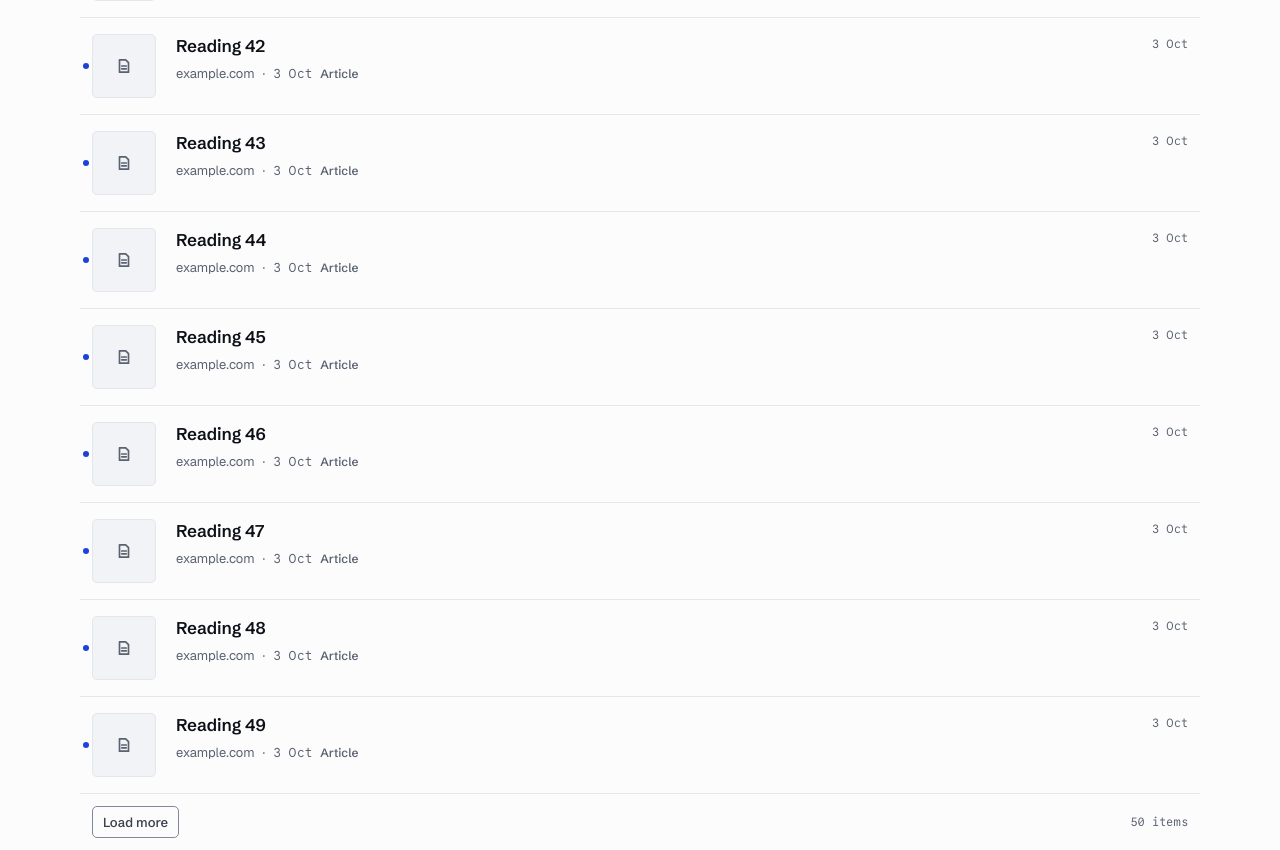
Scenario: LibraryView growing its list › shows 50, then 100, then 120, with no row twice and no button left
(page scrolled)
Click the button with class "library-more": (136, 822) [92,806,179,838]
(page scrolled)
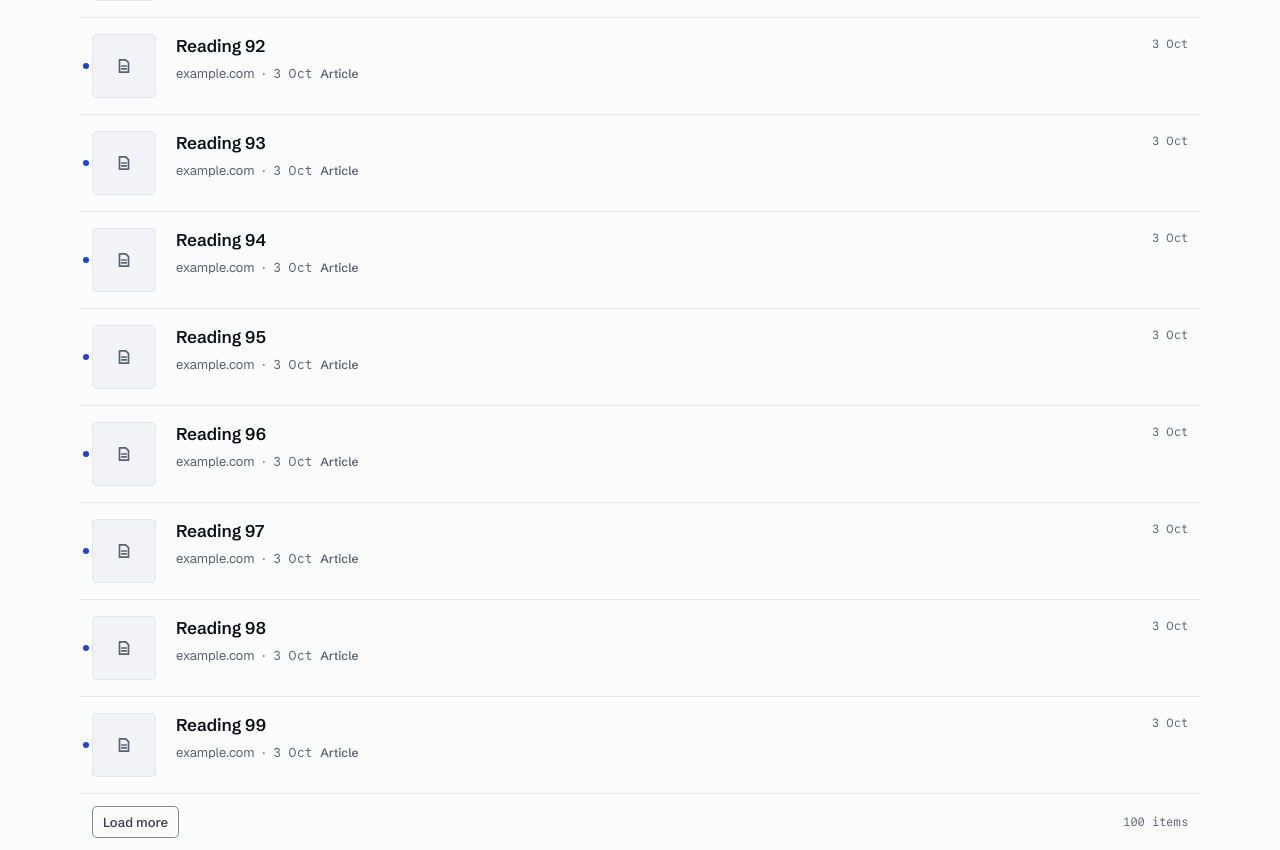
Click the button with class "library-more": (136, 822) [92,806,179,838]
(page scrolled)
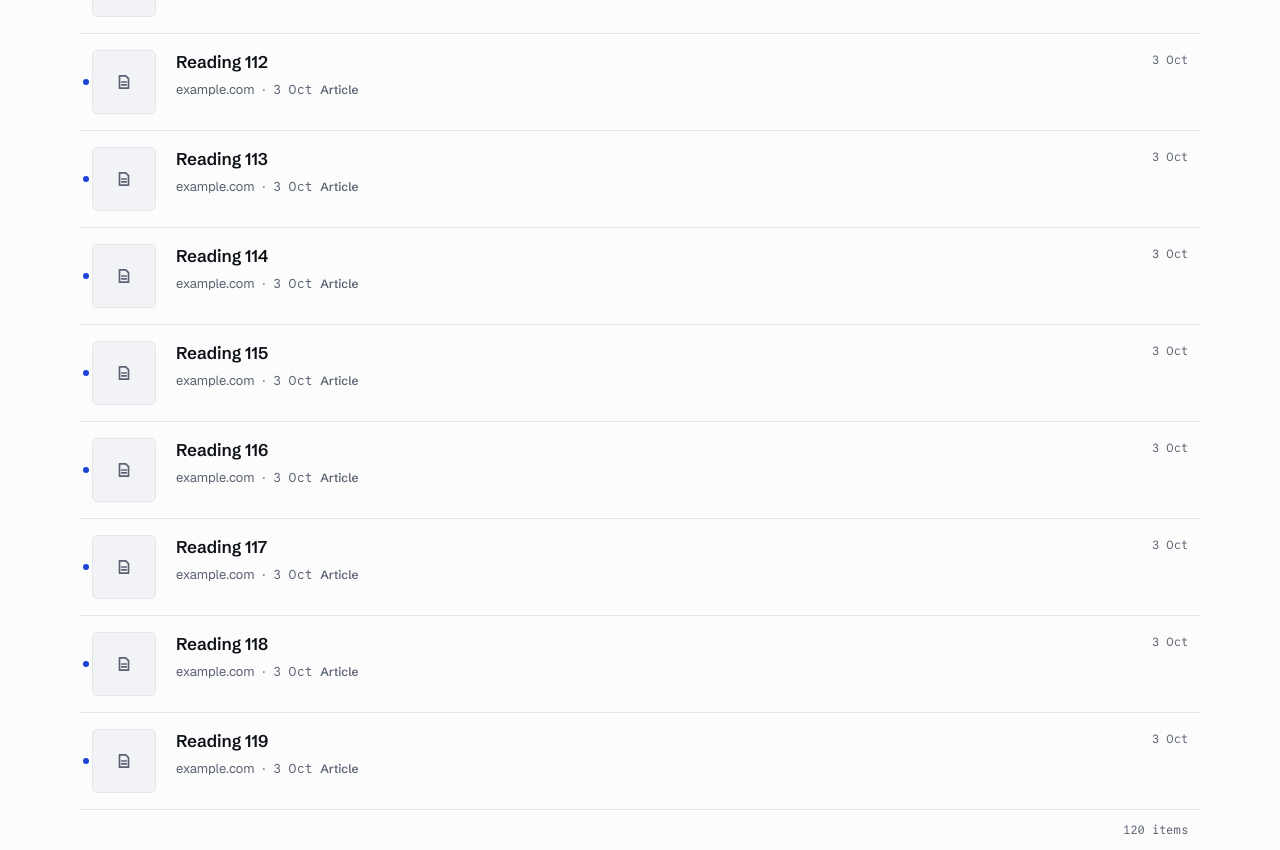
expect the text with class "library-count" reads "120 items": met, box [1123,823,1188,836]
